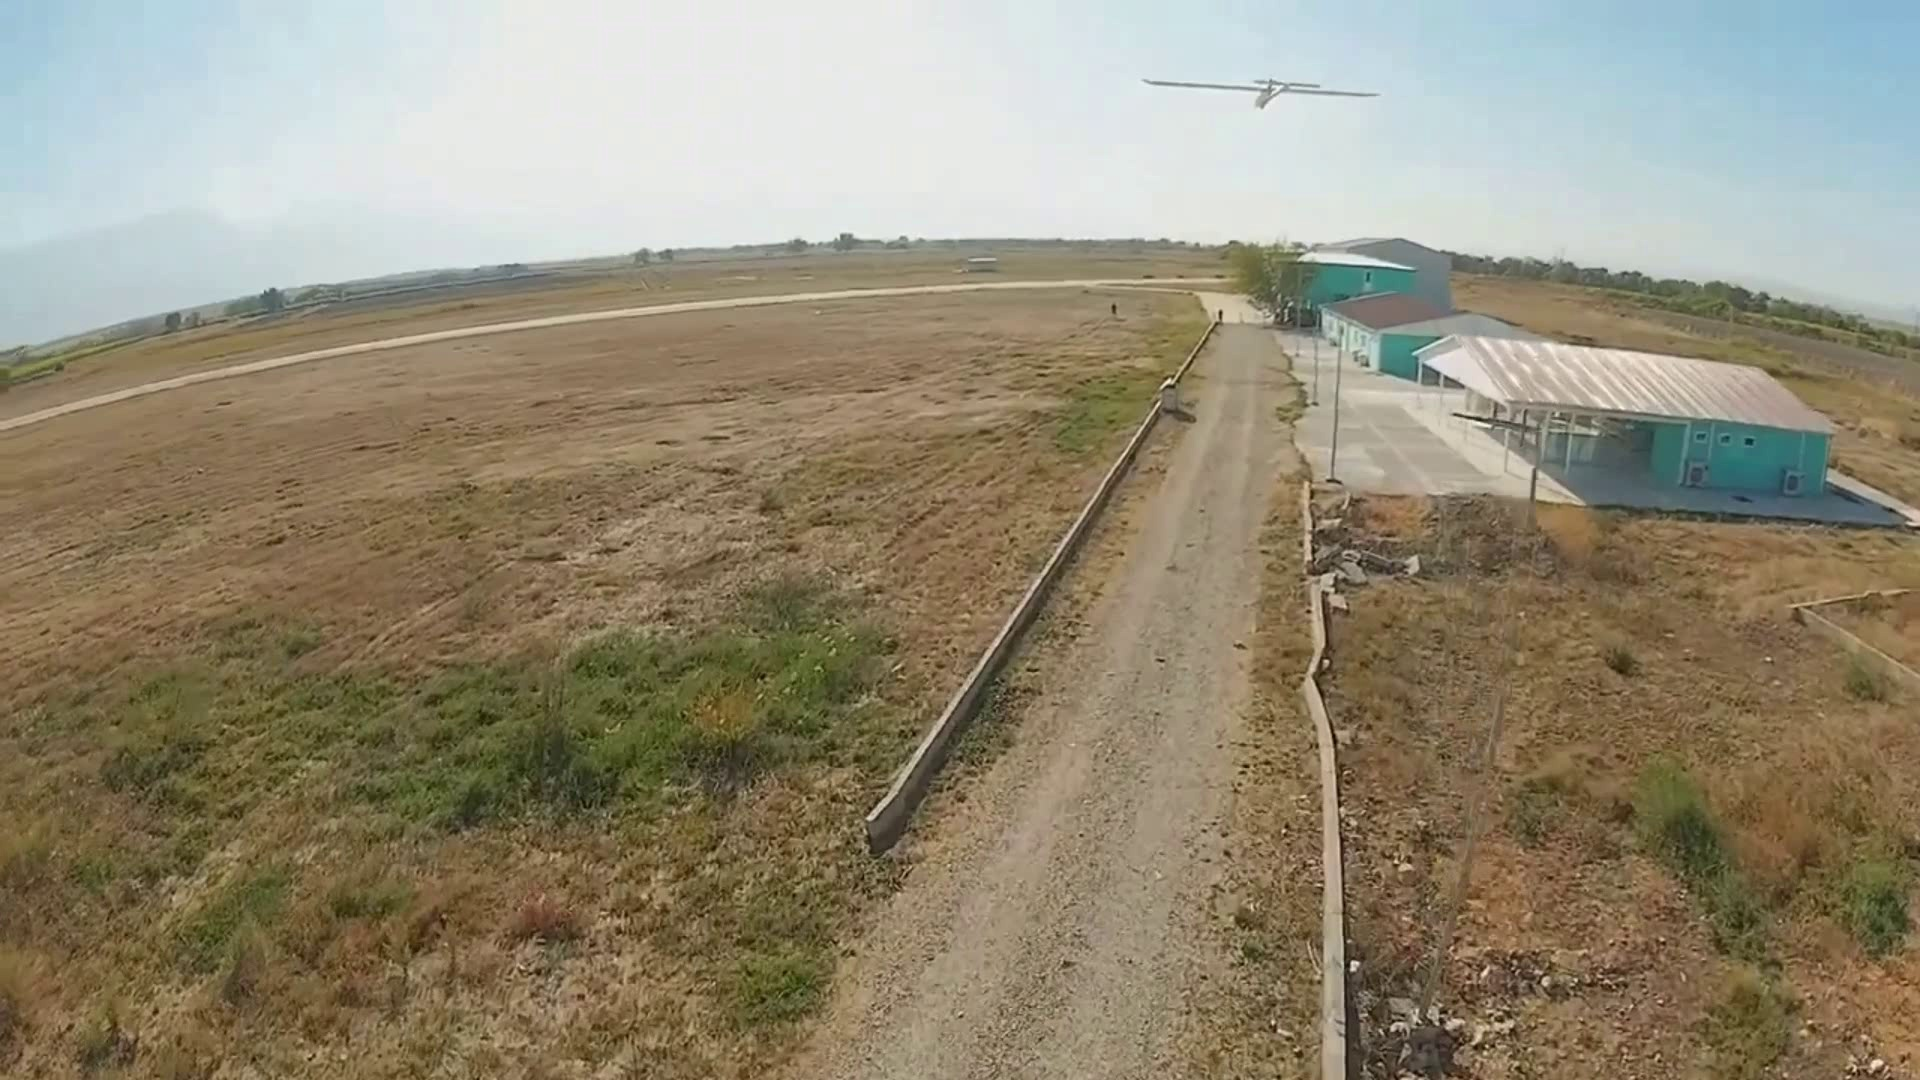airplane: (1138, 74, 1385, 109)
